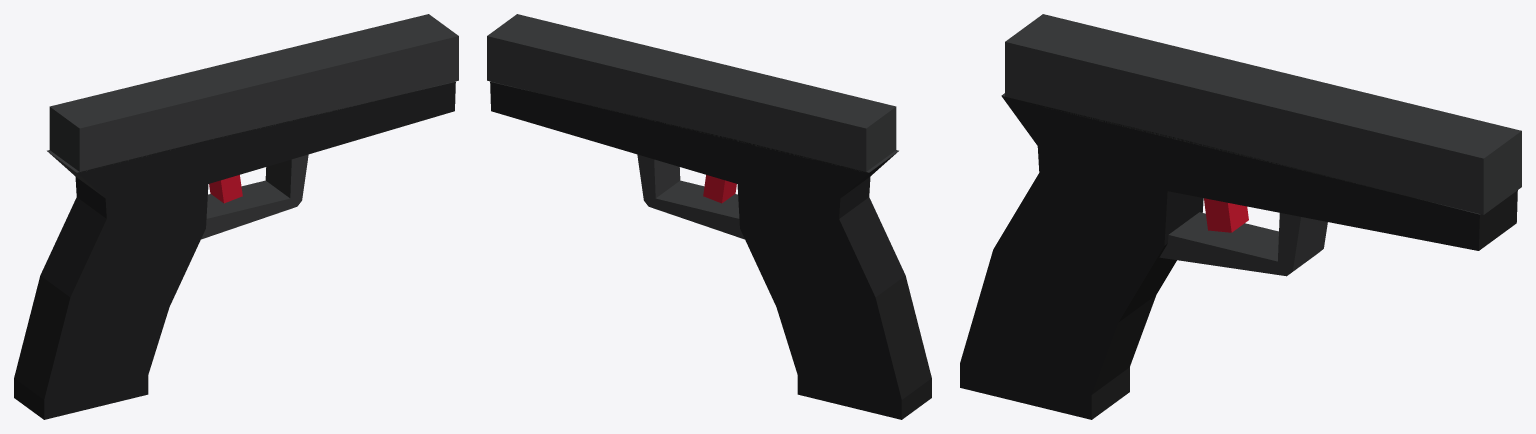
The model's file is Pistole.fbx.
The picture shows the model from 3 angles, left to right: view 1: azimuth 30°, elevation 25°; view 2: azimuth 150°, elevation 25°; view 3: azimuth 330°, elevation 25°; orthographic projection. The views are drawn at different scales.
Visible parts, largest first — view 1: mesh; view 2: mesh; view 3: mesh.
Boxes of the visible parts, box(x1,y1,x2,y2) form: mesh: box(14, 14, 458, 419); mesh: box(487, 14, 931, 419); mesh: box(960, 14, 1521, 419).
Size of the model in its own units: 27.34 by 17.81 by 3.44.
Materials: 1 (1 with a texture image).
